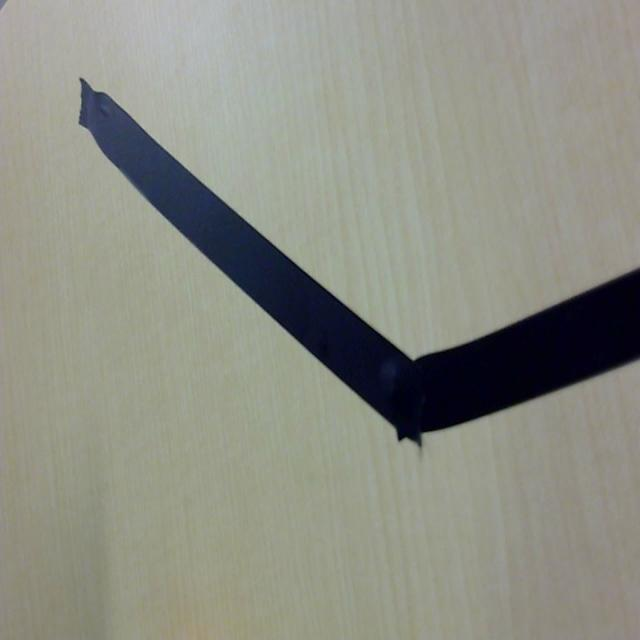tape: (46, 68, 640, 456)
